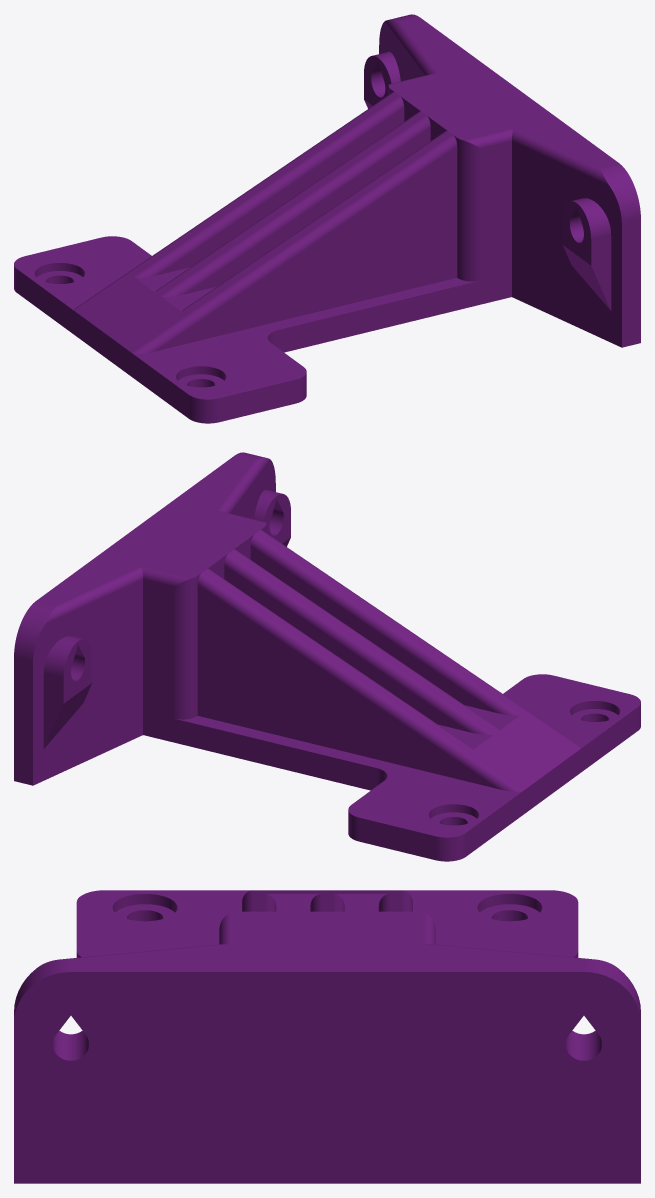
The model's file is depth_camera_support.dae.
3 views of the same model, one above another, from view 1: azimuth 30°, elevation 25°; view 2: azimuth 150°, elevation 25°; view 3: azimuth 270°, elevation 25° (orthographic). The views are drawn at different scales.
Parts seen in each view (by area): view 1: ID2; view 2: ID2; view 3: ID2.
Part boxes in pixels (x1,y1,x2,y2): ID2: [14, 14, 640, 423]; ID2: [14, 452, 640, 861]; ID2: [14, 890, 640, 1183].
Size of the model in its own units: 0.0545 by 0.055 by 0.0205.
